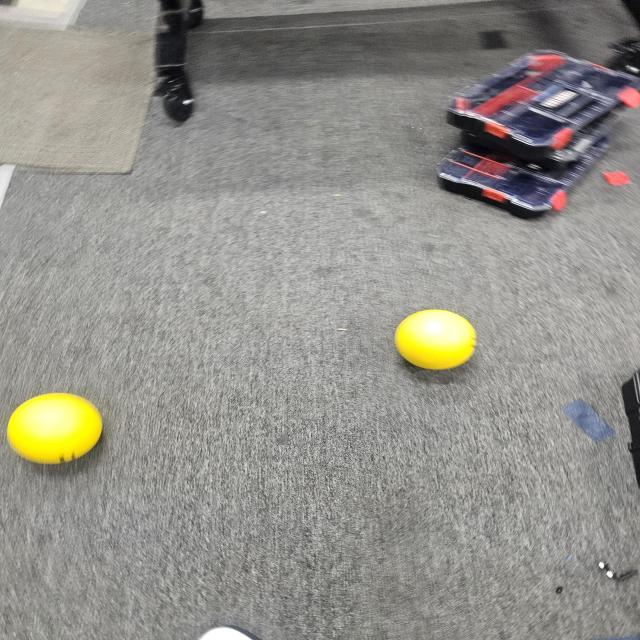Fuel: (2, 386, 108, 469), (391, 305, 484, 373)
